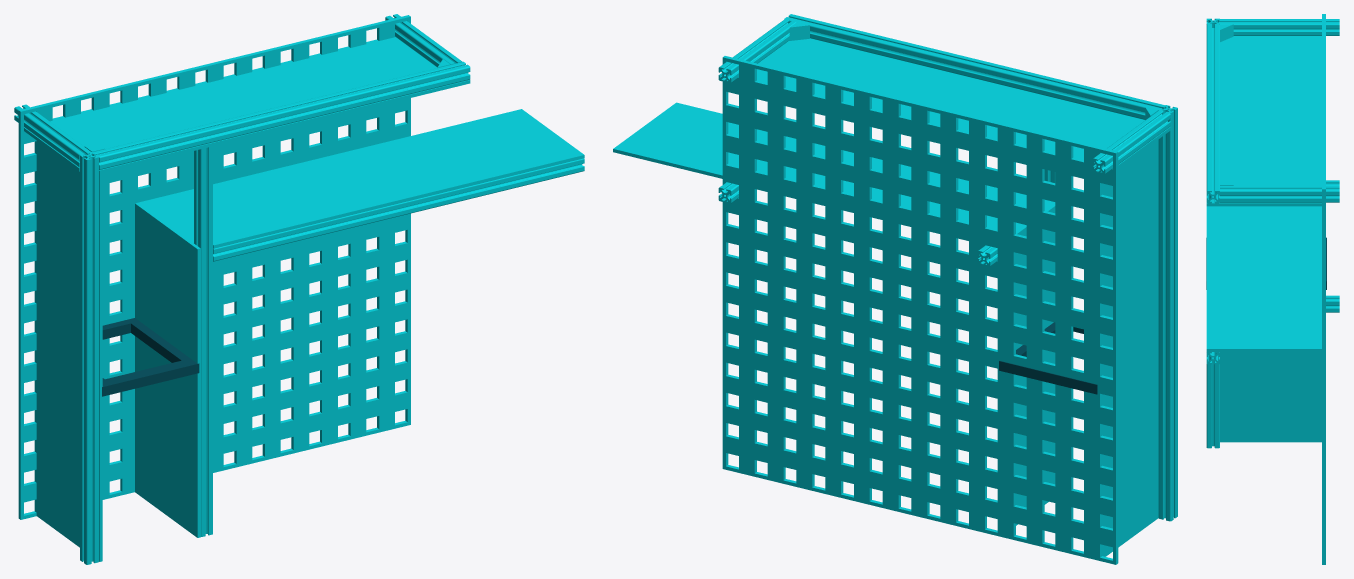
File: test_rig_flange.dae
3 renders of one model, left to right at view 1: azimuth 30°, elevation 25°; view 2: azimuth 150°, elevation 25°; view 3: azimuth 270°, elevation 25°, orthographic. The views are drawn at different scales.
Visible parts, largest first — view 1: test_rig_v3, Cube.001; view 2: test_rig_v3, Cube.001; view 3: test_rig_v3.
Boxes of the visible parts, x1,y1,x2,y2 form: test_rig_v3: [14, 14, 584, 564]; Cube.001: [102, 318, 199, 396]; test_rig_v3: [613, 14, 1177, 564]; Cube.001: [999, 322, 1097, 394]; test_rig_v3: [1206, 14, 1339, 564].
Bounding box in the file's own units: 7.83 × 1.96 × 6.1.
